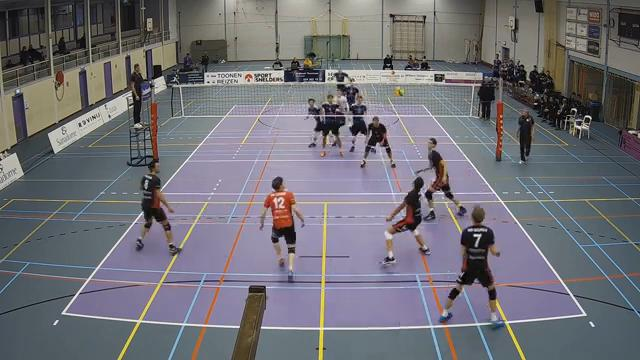ricezione: (375, 174, 433, 267)
